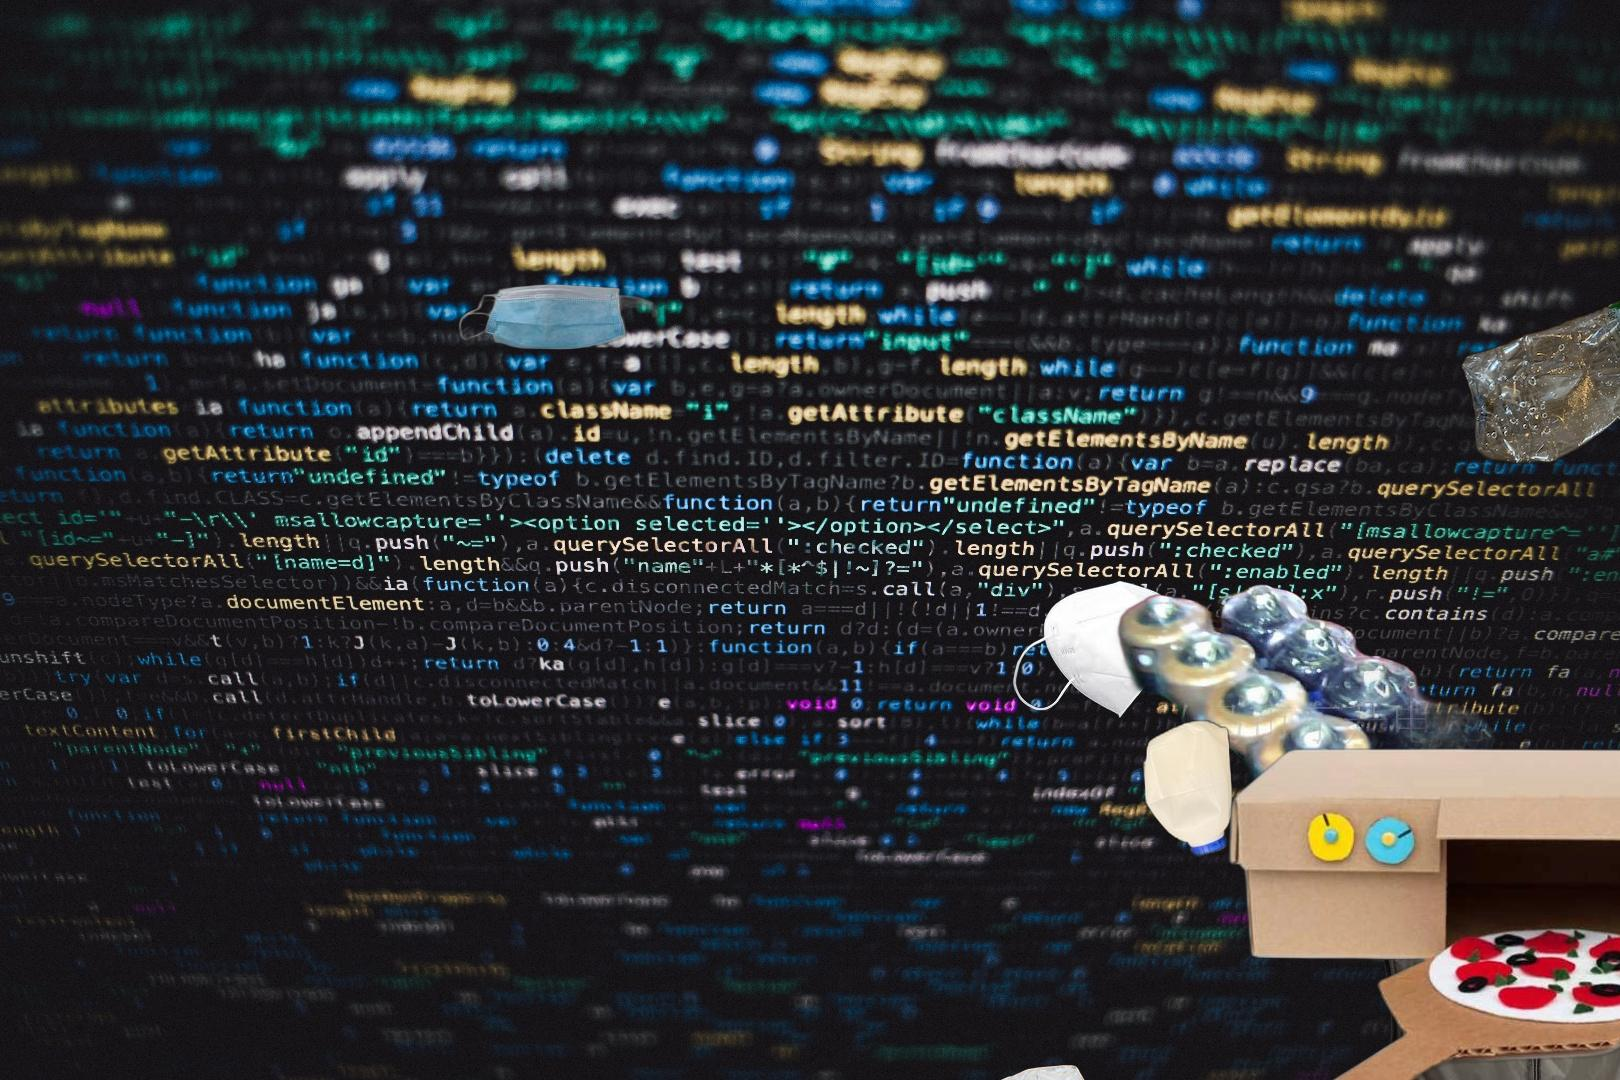battery: (1114, 579, 1614, 904)
clothes: (1339, 808, 1620, 1080)
plastic-bag: (965, 1062, 1100, 1080)
plastic-bottles: (1458, 256, 1620, 468), (1138, 714, 1235, 862)
trash: (1010, 579, 1201, 723), (454, 281, 662, 353)
trashbox-cardboard: (1223, 744, 1620, 1080)
